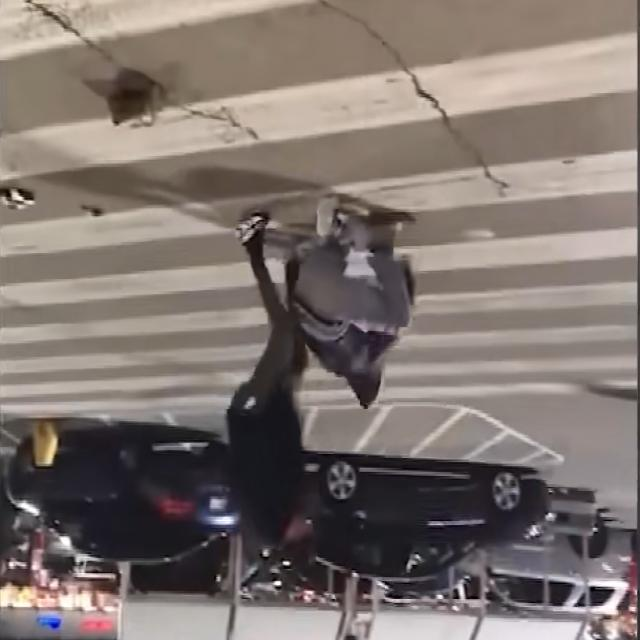nofight: (216, 206, 329, 573), (296, 175, 418, 415)
